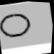no answer: (0, 7, 33, 42)
